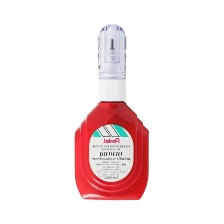correction_fluid: (72, 20, 152, 203)
